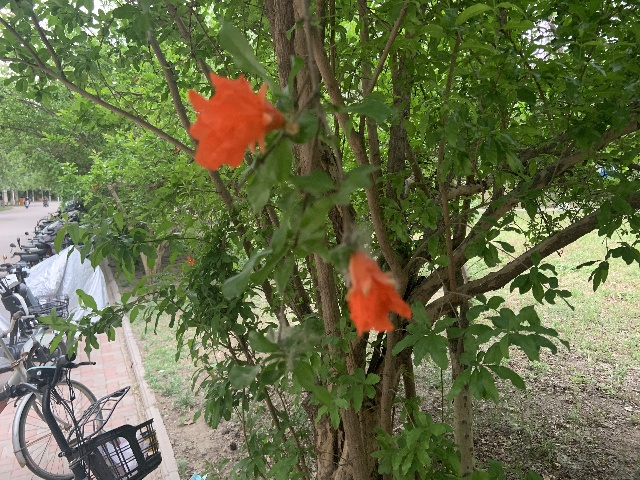flower: (187, 70, 284, 170), (344, 250, 411, 336), (186, 256, 194, 266)
